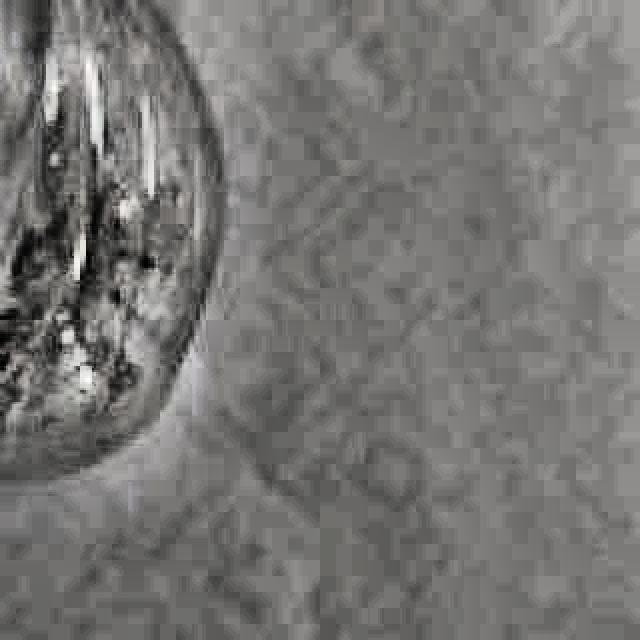plastic: (0, 0, 316, 540)
